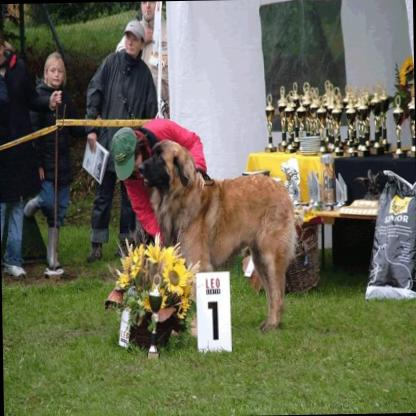Leonberg: (138, 137, 297, 333)
